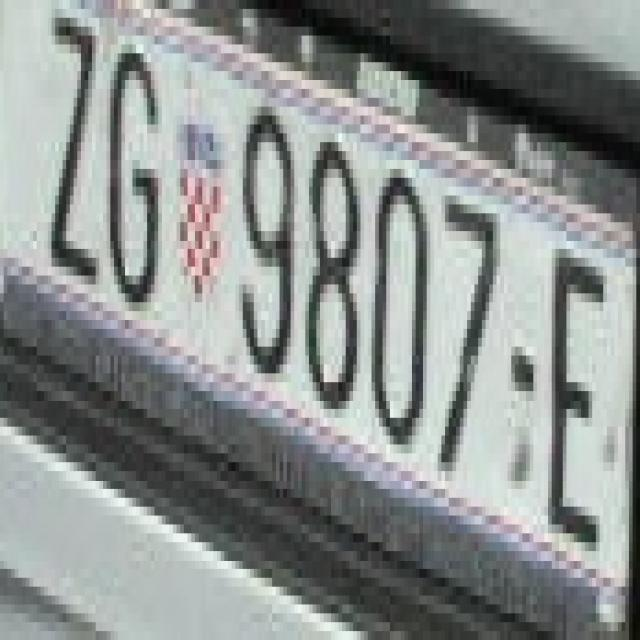0: (364, 98, 427, 471)
7: (434, 116, 500, 516)
8: (305, 53, 364, 436)
9: (232, 9, 298, 400)
E: (537, 204, 614, 569)
G: (103, 0, 166, 311)
Z: (37, 18, 103, 293)
